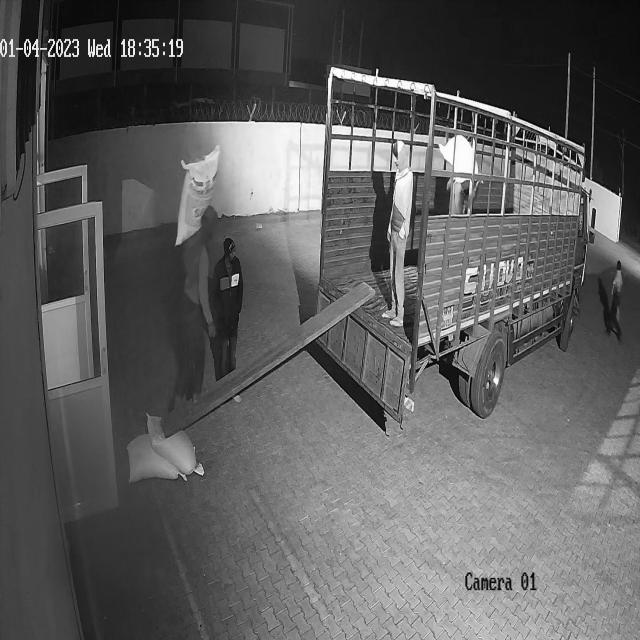sack: (175, 144, 219, 248), (145, 410, 204, 474), (126, 432, 188, 482), (438, 134, 479, 183)
